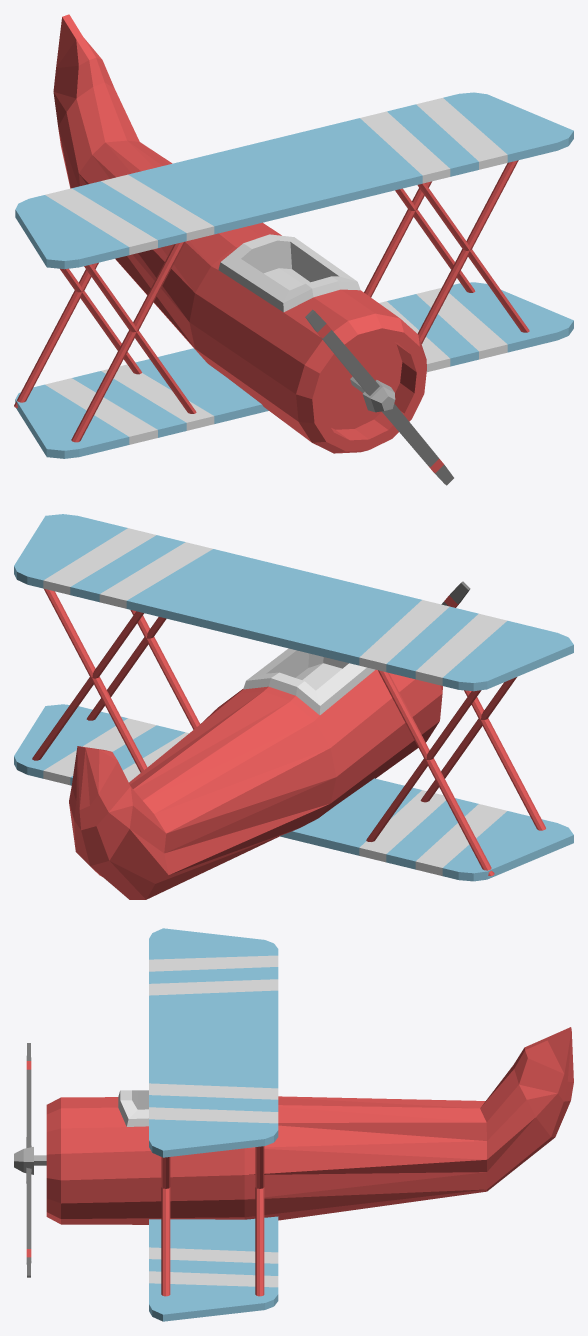
The model's file is char_6.fbx.
3 renders of one model, top to bottom at view 1: azimuth 30°, elevation 25°; view 2: azimuth 150°, elevation 25°; view 3: azimuth 270°, elevation 25°, orthographic. The views are drawn at different scales.
Parts seen in each view (by area): view 1: char_6; view 2: char_6; view 3: char_6.
Part boxes in pixels (bbox=[...]): char_6: bbox=[14, 14, 573, 485]; char_6: bbox=[14, 514, 573, 899]; char_6: bbox=[14, 928, 573, 1321].
Size of the model in its own units: 243 by 113 by 258.
